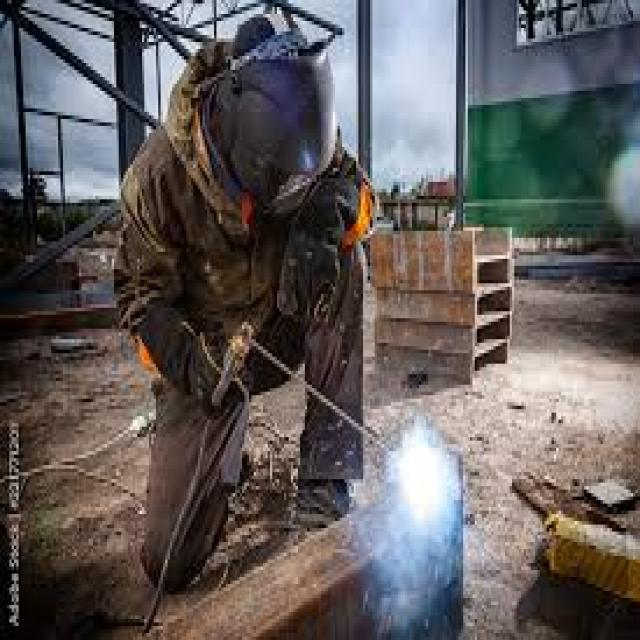welding: (404, 442, 439, 512)
